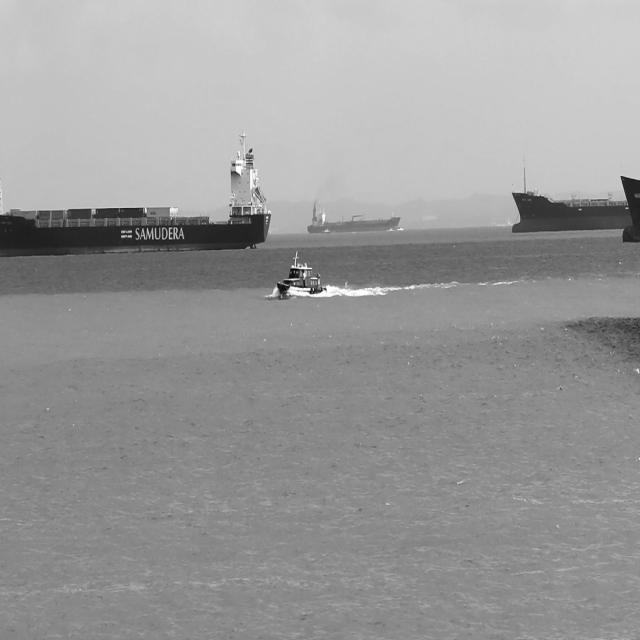ship: (0, 126, 272, 256), (511, 164, 630, 233), (306, 198, 400, 234), (276, 250, 328, 298), (619, 172, 640, 242), (321, 226, 330, 234)
